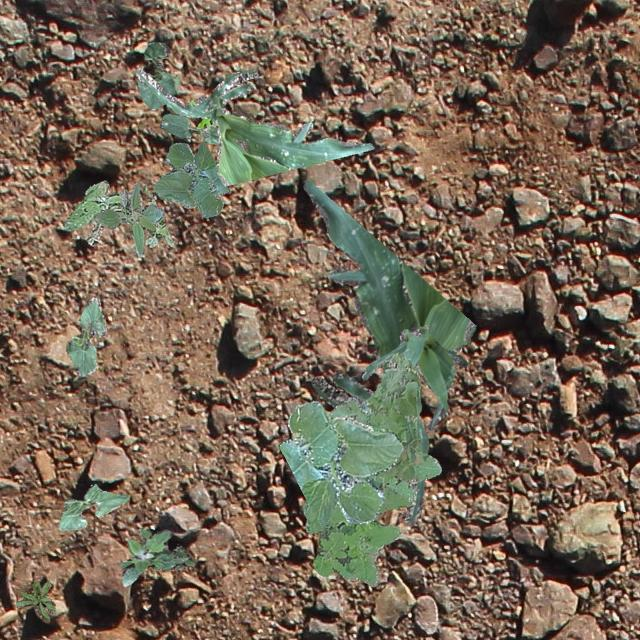crop: (302, 178, 476, 524), (134, 68, 372, 186), (278, 401, 402, 526), (361, 324, 466, 429), (152, 140, 228, 217), (58, 482, 128, 530), (64, 296, 106, 374), (136, 40, 176, 110), (158, 112, 218, 144)
weed: (302, 352, 441, 586), (63, 180, 173, 247), (92, 182, 164, 256), (118, 528, 194, 586), (15, 578, 54, 622), (188, 100, 214, 128)
